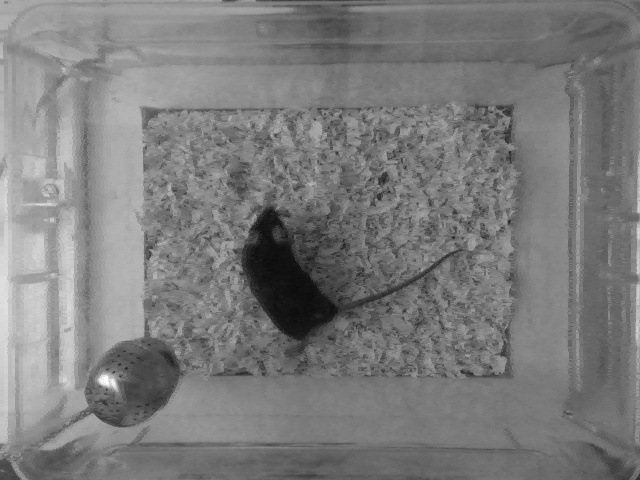mice: (244, 206, 472, 342)
